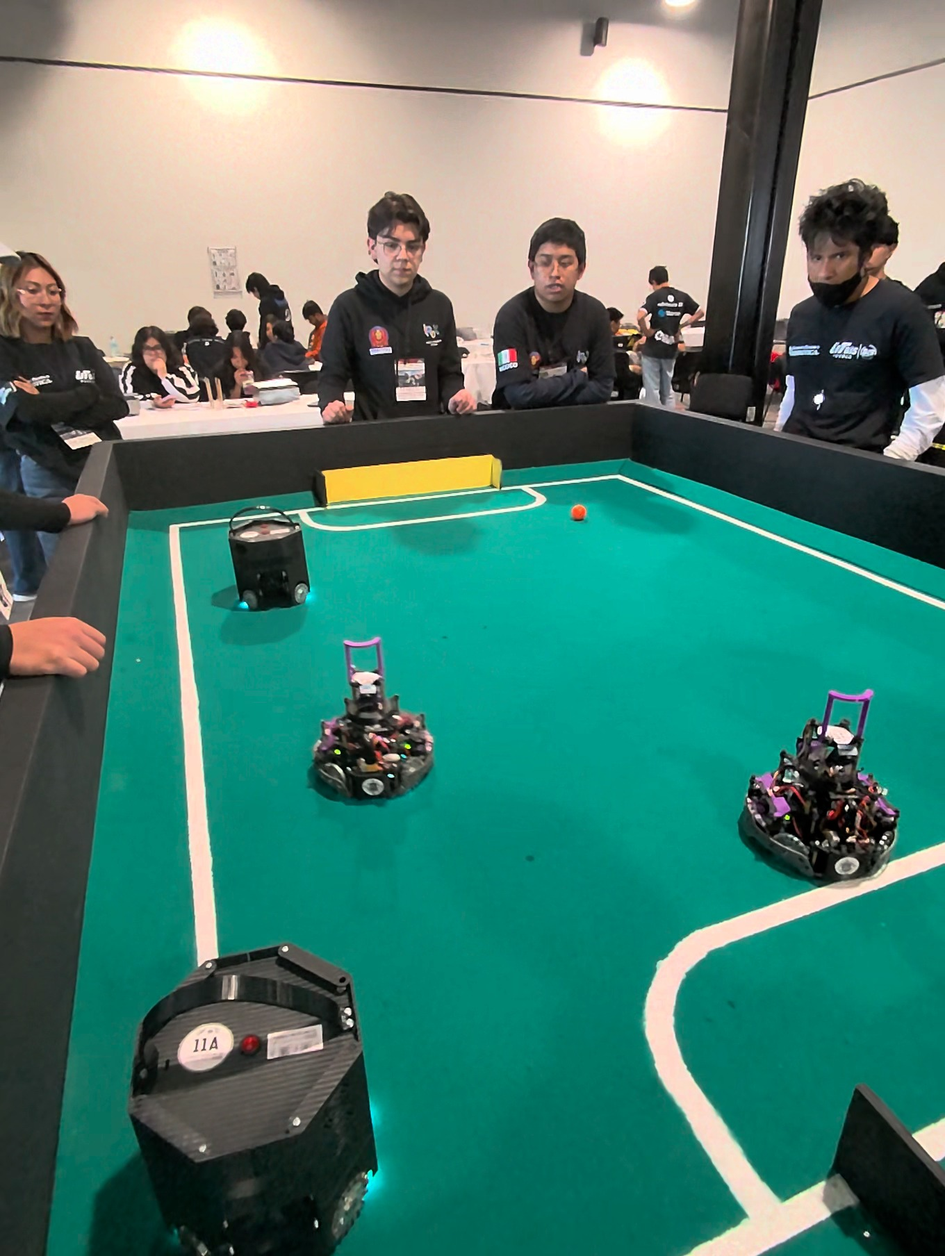Robot: (103, 913, 405, 1255), (745, 687, 898, 888), (313, 658, 438, 805), (221, 507, 320, 631)
